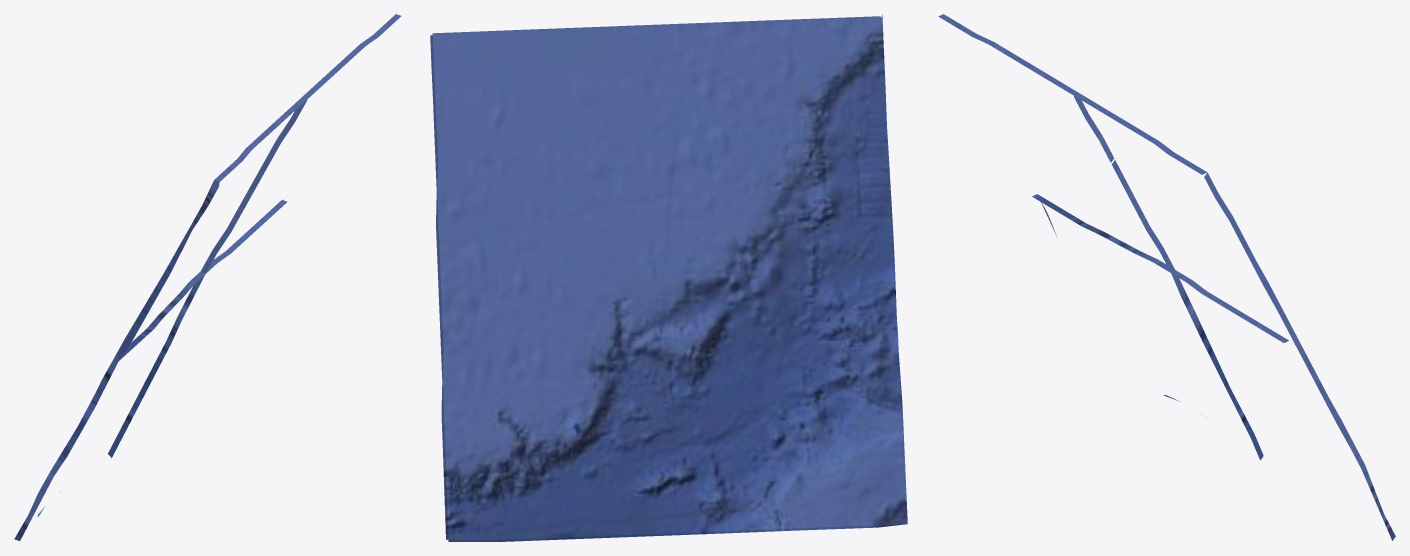
The picture shows the model from 3 angles, left to right: view 1: azimuth 30°, elevation 25°; view 2: azimuth 150°, elevation 25°; view 3: azimuth 270°, elevation 25°; orthographic projection. The views are drawn at different scales.
Bounding box in the file's own units: 313911 × 283668 × 278792.
1 material, 1 textured.
